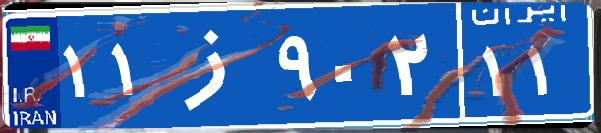0: (330, 28, 385, 110)
1: (57, 26, 110, 107), (475, 38, 525, 113), (110, 28, 158, 105), (525, 38, 570, 115)
2: (385, 28, 445, 110)
9: (273, 28, 330, 110)
ز: (158, 15, 273, 115)
